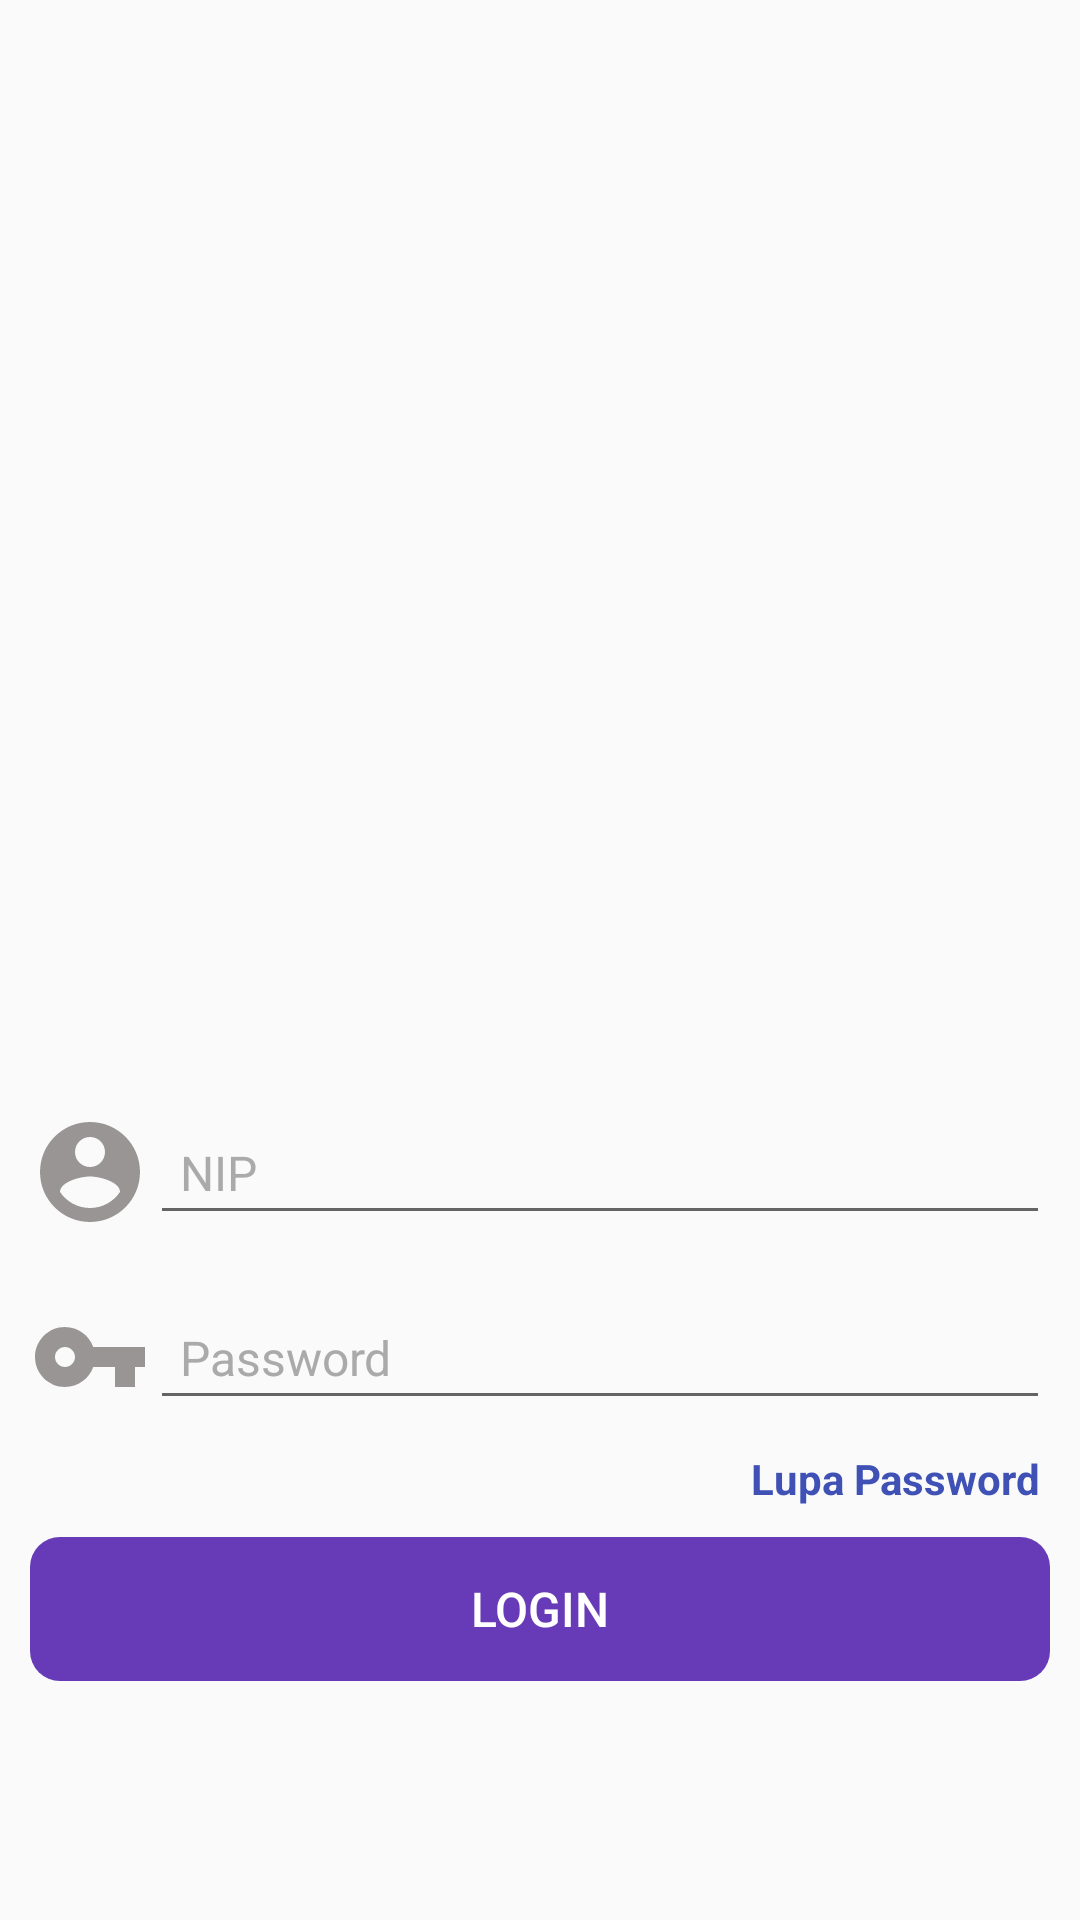

Icons on this 1080 × 1920 Android screen, each with its box as detection(x1, y1, x2, y2):
account circle: detection(40, 1122, 140, 1222)
vpn key: detection(35, 1327, 145, 1387)
